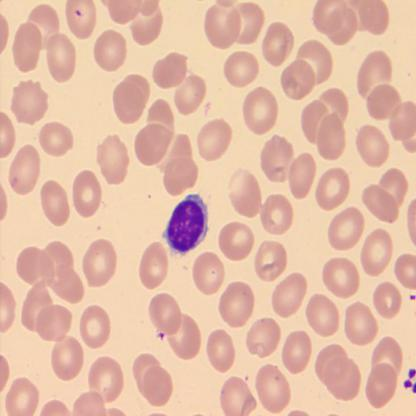Lymphocyte: (162, 192, 209, 256)
